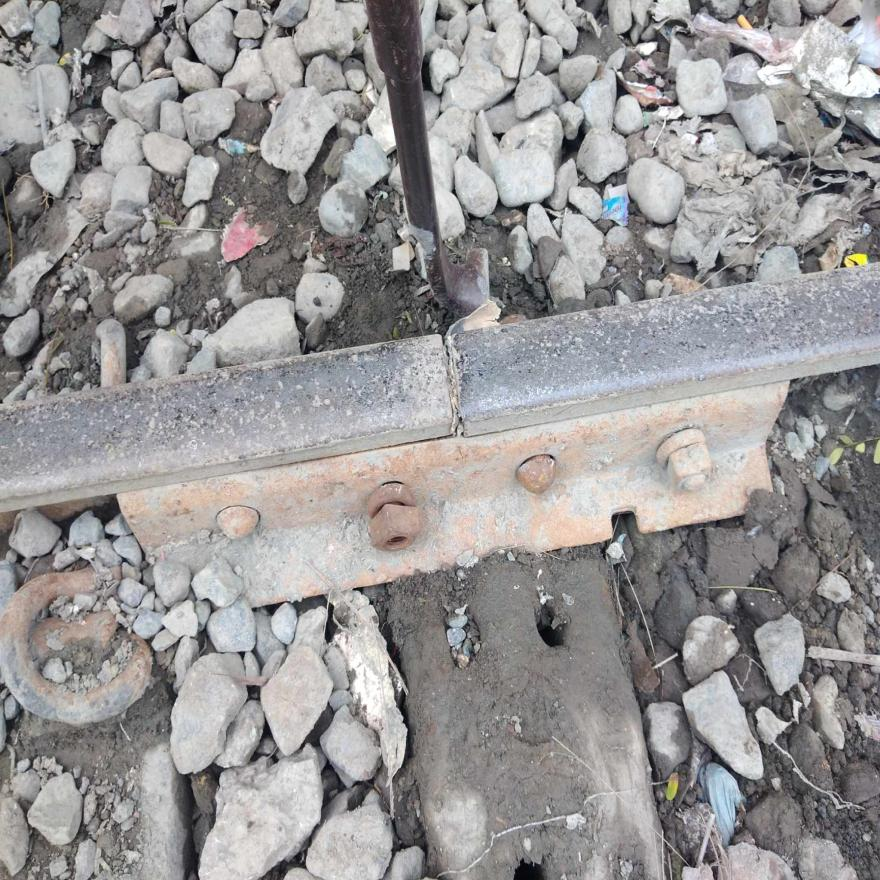railway-gap: (382, 292, 523, 469)
